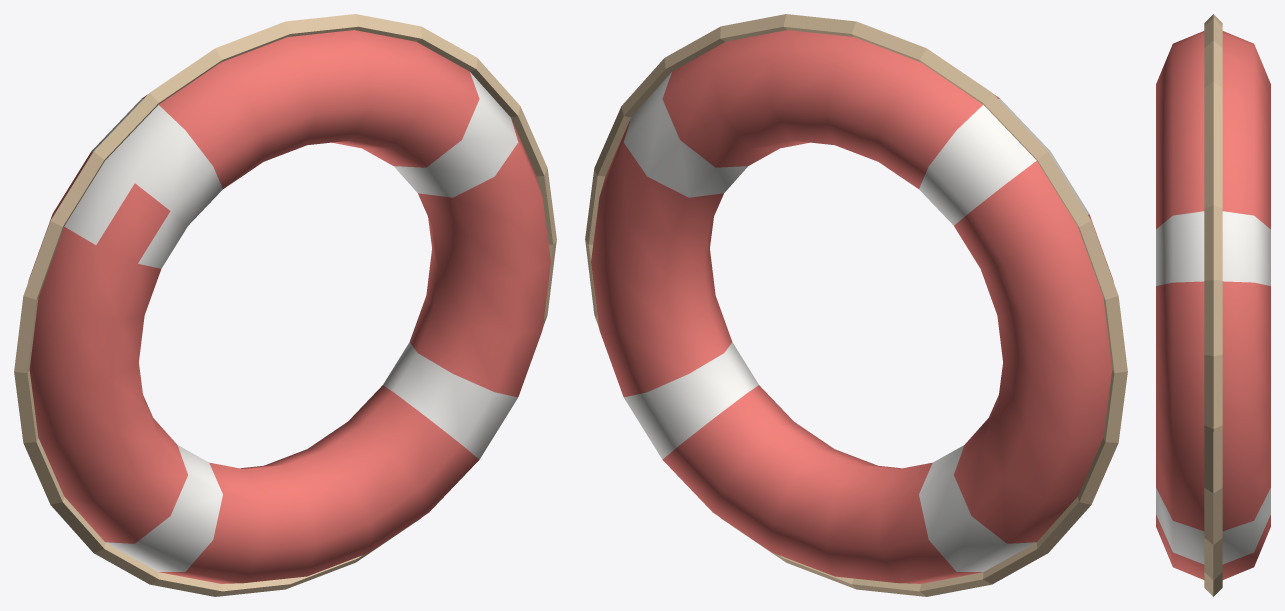
Rendered from RescueRing.fbx.
3 views of the same model, side by side, from view 1: azimuth 30°, elevation 25°; view 2: azimuth 150°, elevation 25°; view 3: azimuth 270°, elevation 25° (orthographic). The views are drawn at different scales.
Visible parts, largest first — view 1: RescueRing; view 2: RescueRing; view 3: RescueRing.
Boxes of the visible parts, x1,y1,x2,y2 form: RescueRing: (14,14,556,596); RescueRing: (585,14,1127,596); RescueRing: (1156,14,1270,596).
Size of the model in its own units: 0.764 by 0.764 by 0.15.
